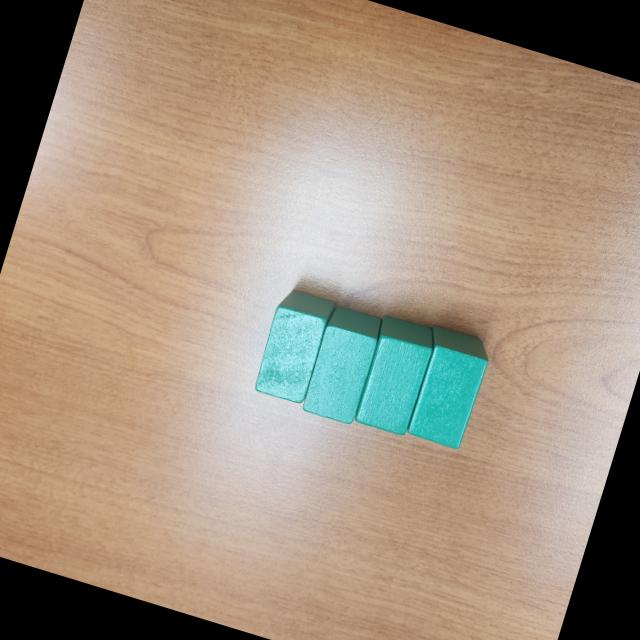green: (398, 322, 494, 452), (350, 311, 440, 438), (250, 285, 336, 410), (299, 304, 385, 426)
